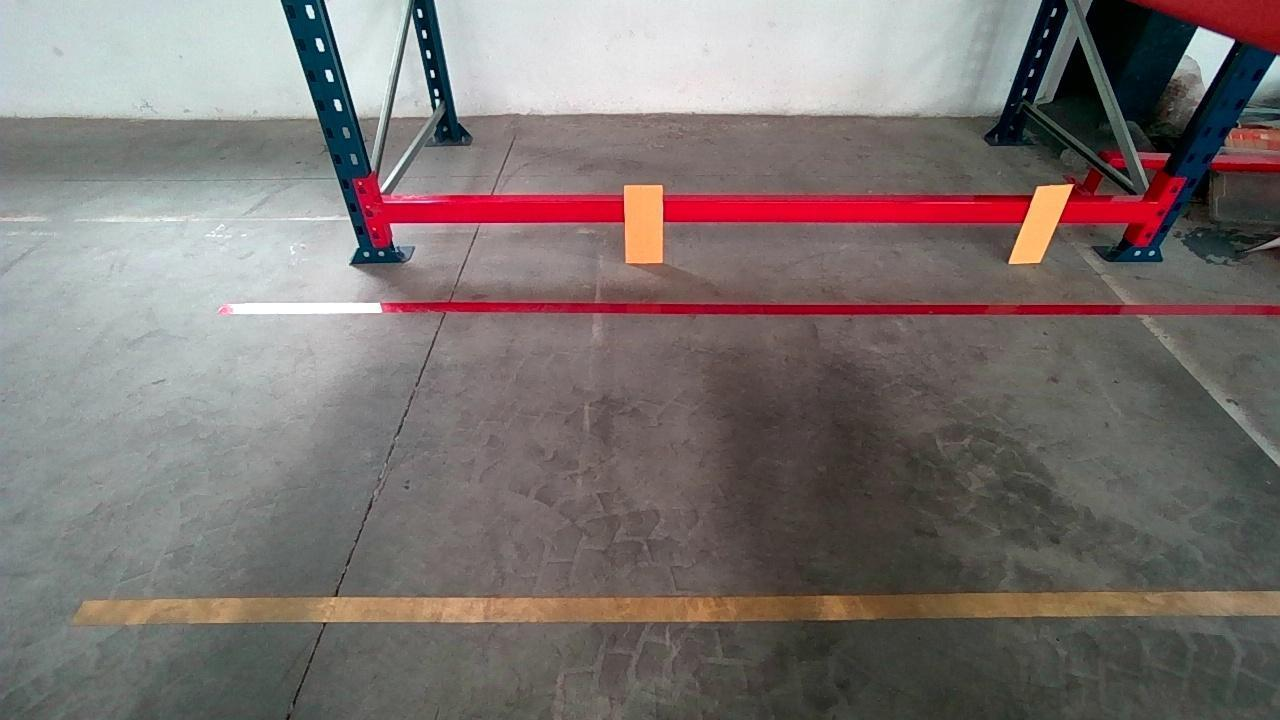h_rack: (377, 188, 1153, 225)
orange_strip: (1008, 184, 1077, 261), (626, 183, 664, 262)
red_line: (213, 296, 1280, 319)
yellow_line: (74, 589, 1271, 630)
